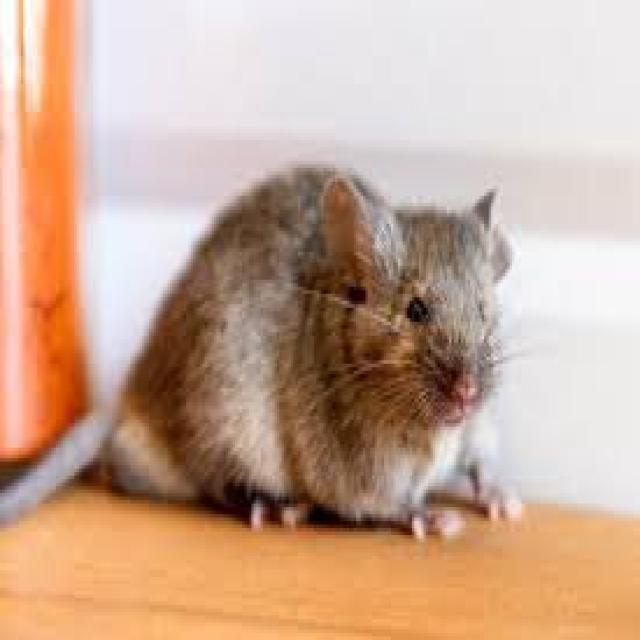Mouse: (0, 159, 523, 526)
